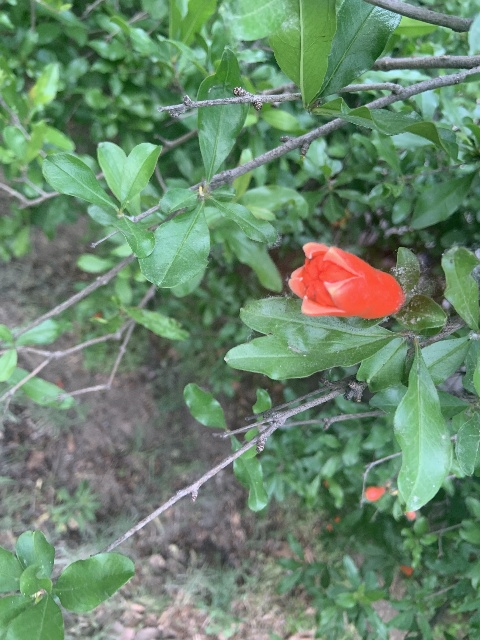flower: (289, 243, 405, 319)
